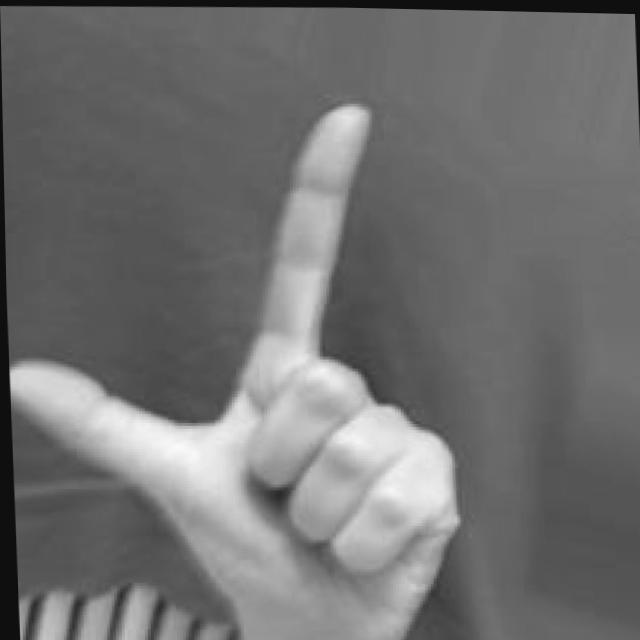L: (2, 84, 488, 640)
